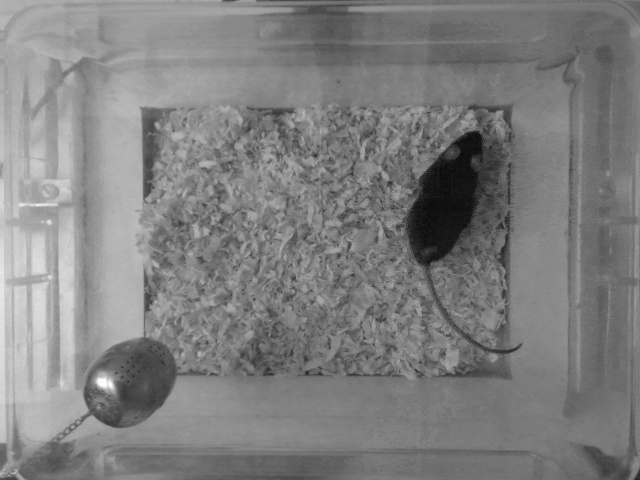mice: (398, 126, 527, 358)
